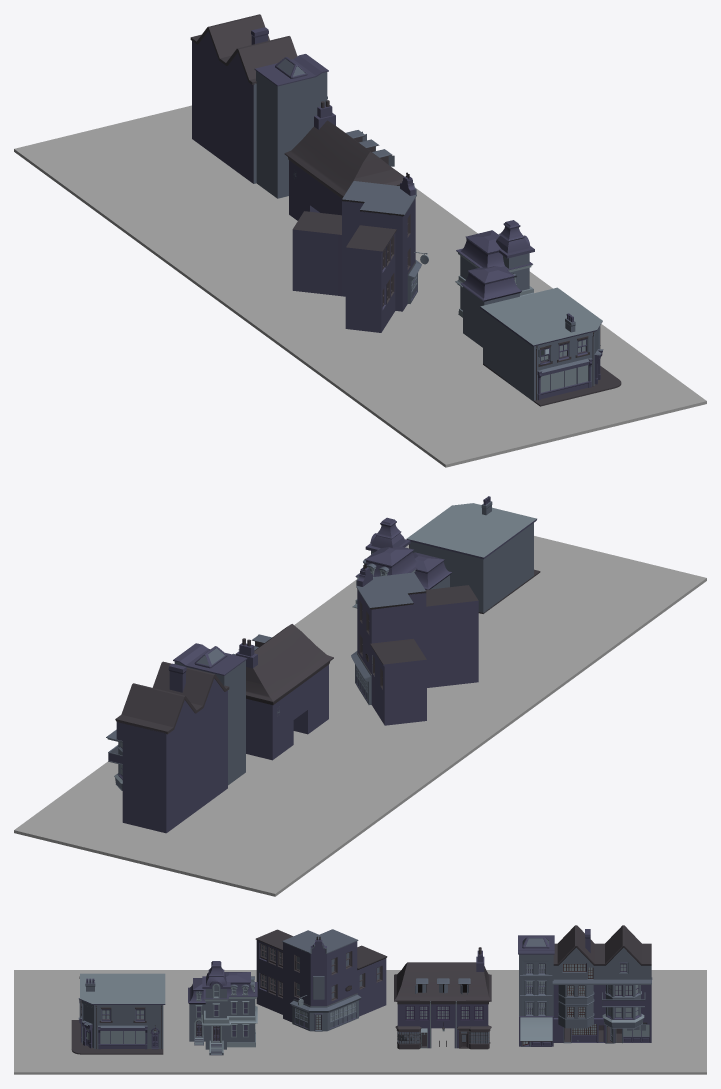
File: Houses_new.fbx
3 views of the same model, one above another, from view 1: azimuth 30°, elevation 25°; view 2: azimuth 150°, elevation 25°; view 3: azimuth 270°, elevation 25° (orthographic). The views are drawn at different scales.
Parts seen in each view (by area): view 1: pPlane2, polySurface520, polySurface522, polySurface562, polySurface582, polySurface597; view 2: pPlane2, polySurface520, polySurface522, polySurface582, polySurface562, polySurface597; view 3: pPlane2, polySurface520, polySurface522, polySurface582, polySurface562, polySurface597.
Part boxes in pixels (x1,y1,x2,y2): pPlane2: (14, 105, 706, 467); polySurface520: (190, 14, 328, 198); polySurface522: (292, 172, 428, 332); polySurface562: (480, 287, 621, 406); polySurface582: (284, 100, 404, 220); polySurface597: (455, 220, 534, 347); pPlane2: (14, 536, 706, 896); polySurface520: (106, 643, 247, 833); polySurface522: (351, 563, 478, 725); polySurface582: (232, 624, 333, 760); polySurface562: (406, 496, 540, 613); polySurface597: (352, 517, 451, 608); pPlane2: (14, 970, 706, 1074); polySurface520: (518, 925, 652, 1046); polySurface522: (255, 929, 387, 1031); polySurface582: (394, 947, 491, 1049); polySurface562: (71, 973, 165, 1054); polySurface597: (188, 961, 257, 1055).
Bounding box in the file's own units: 3512 × 1722 × 10048.
2 materials, 1 textured.
